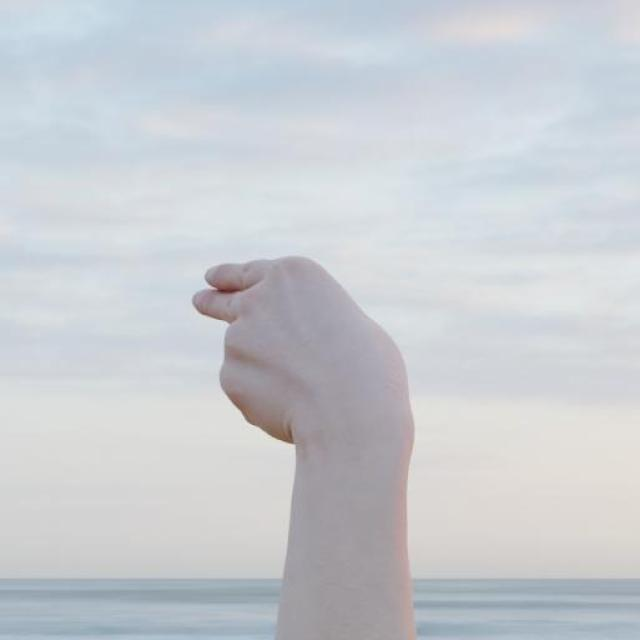H: (186, 248, 422, 452)
